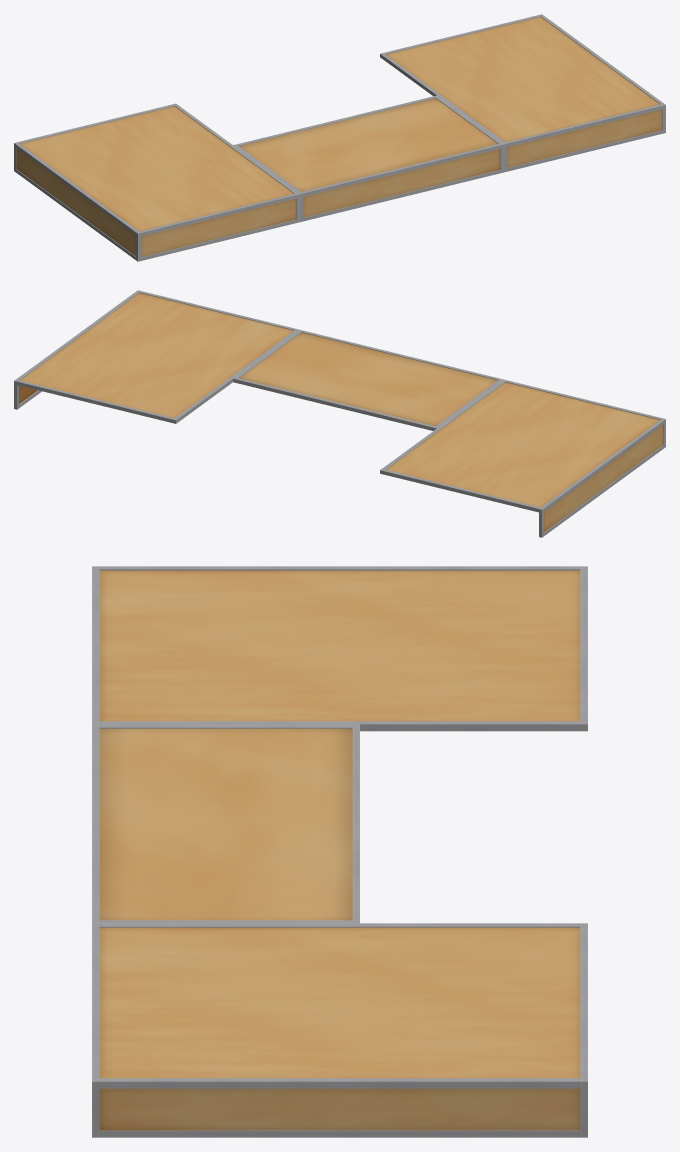
Rendered from jsf_2P_s02_c05_t04_DX.fbx.
The picture shows the model from 3 angles, top to bottom: view 1: azimuth 30°, elevation 25°; view 2: azimuth 150°, elevation 25°; view 3: azimuth 270°, elevation 25°; orthographic projection. The views are drawn at different scales.
Visible parts, largest first — view 1: jsf_2P_s02_c05_t04_DX; view 2: jsf_2P_s02_c05_t04_DX; view 3: jsf_2P_s02_c05_t04_DX.
Part boxes in pixels (box(x1,y1,x2,y2)): jsf_2P_s02_c05_t04_DX: box(14, 14, 665, 261); jsf_2P_s02_c05_t04_DX: box(14, 290, 665, 537); jsf_2P_s02_c05_t04_DX: box(92, 566, 587, 1137).
Size of the model in its own units: 246 by 12.51 by 100.
